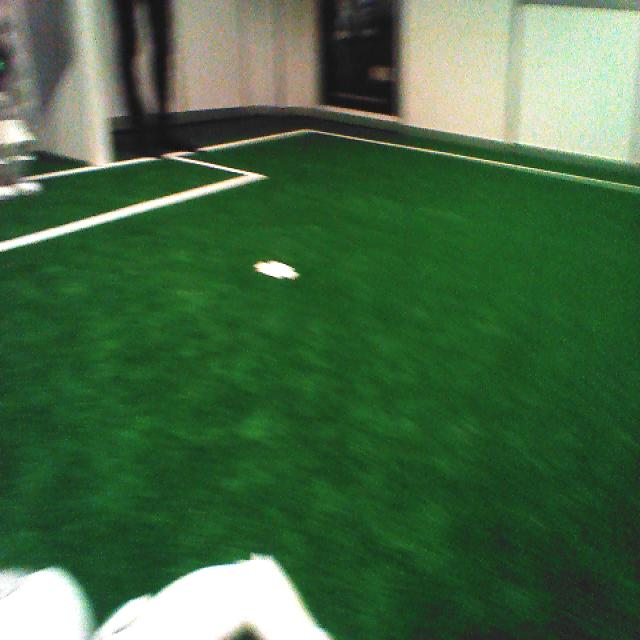goalpost: (65, 1, 112, 168)
